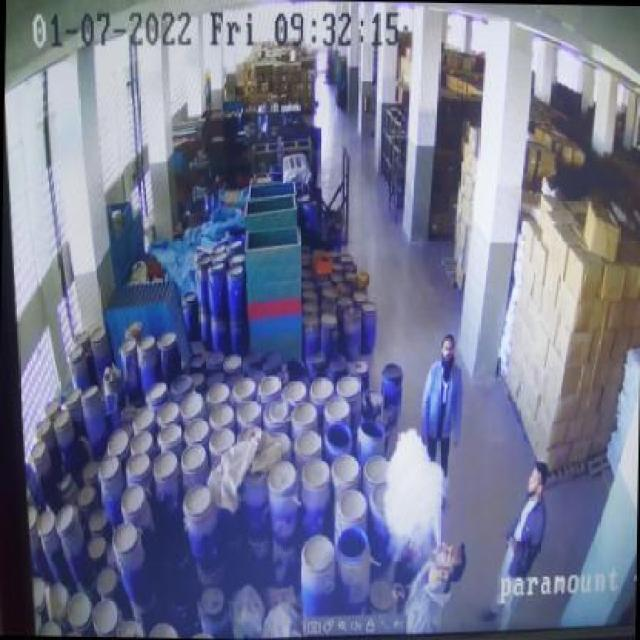fire: (383, 422, 446, 550)
